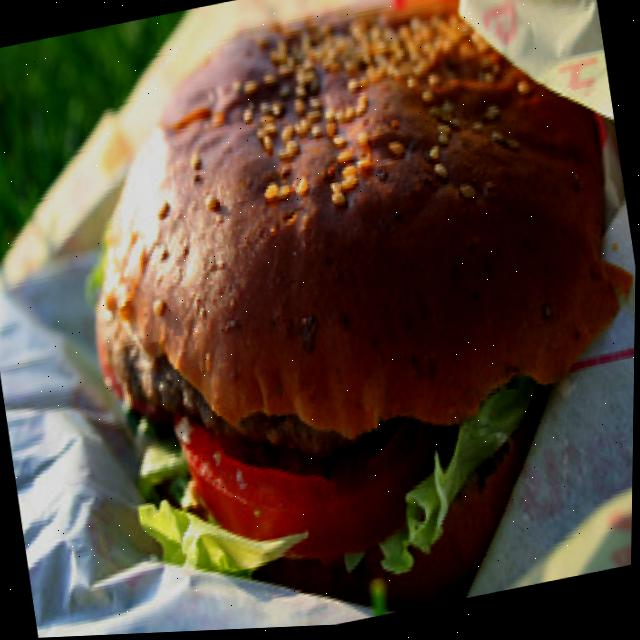汉堡快餐: (54, 0, 640, 638)
